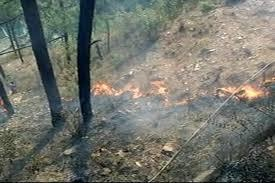fire: (214, 68, 275, 102), (90, 77, 174, 100)
